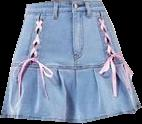Hemline: (0, 105, 141, 123)
Waistline: (11, 63, 125, 68), (27, 0, 102, 5)
